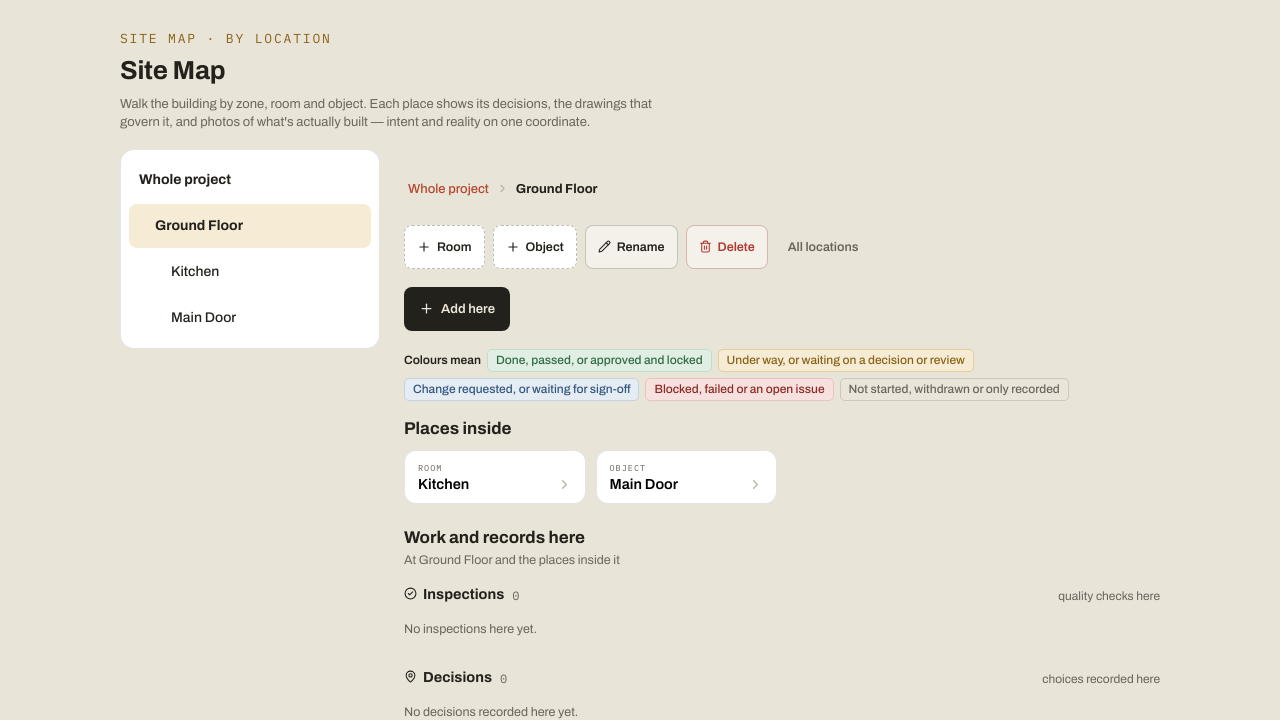
Test: #699 Codex round 1 › the delete is not described, nor offered, while what is filed there has not loaded (4174074843)
Step 1. Click the button with test id "place-delete" → click(727, 247), box [686,225,768,269]
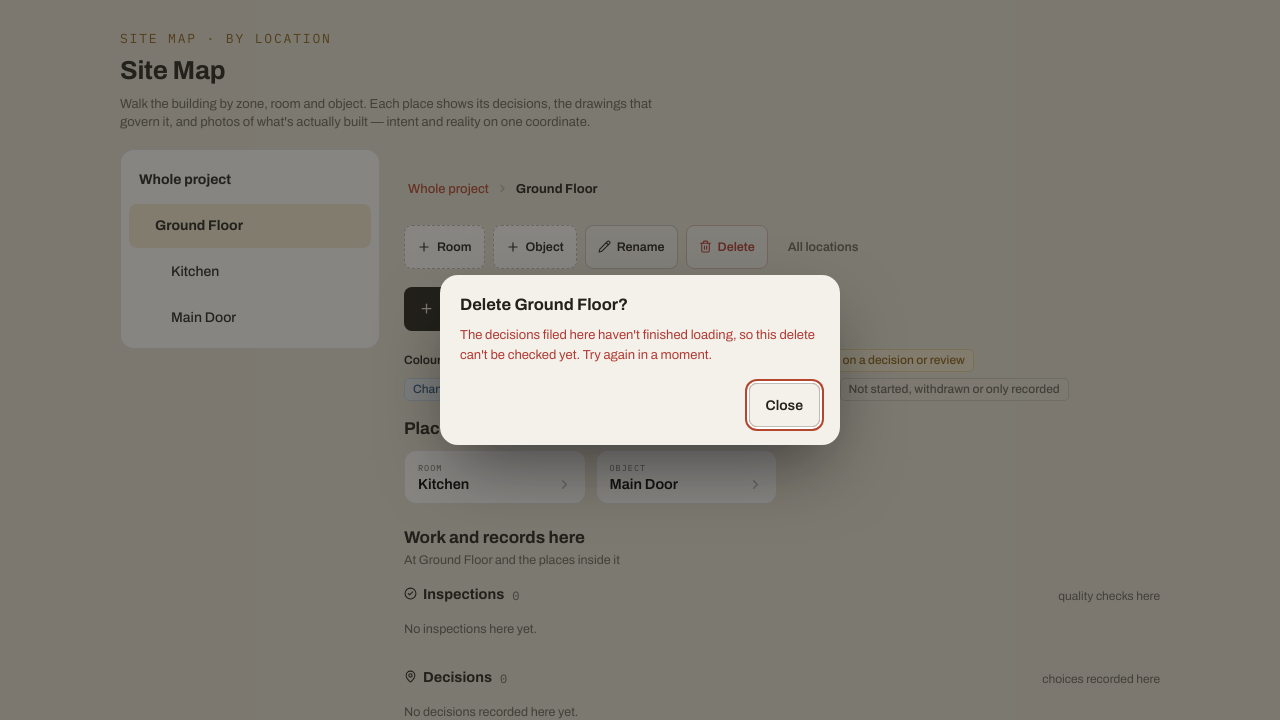
Now the text with test id "confirm-location-delete-blocked" shows "haven't finished loading", box [460,328,815,362]
